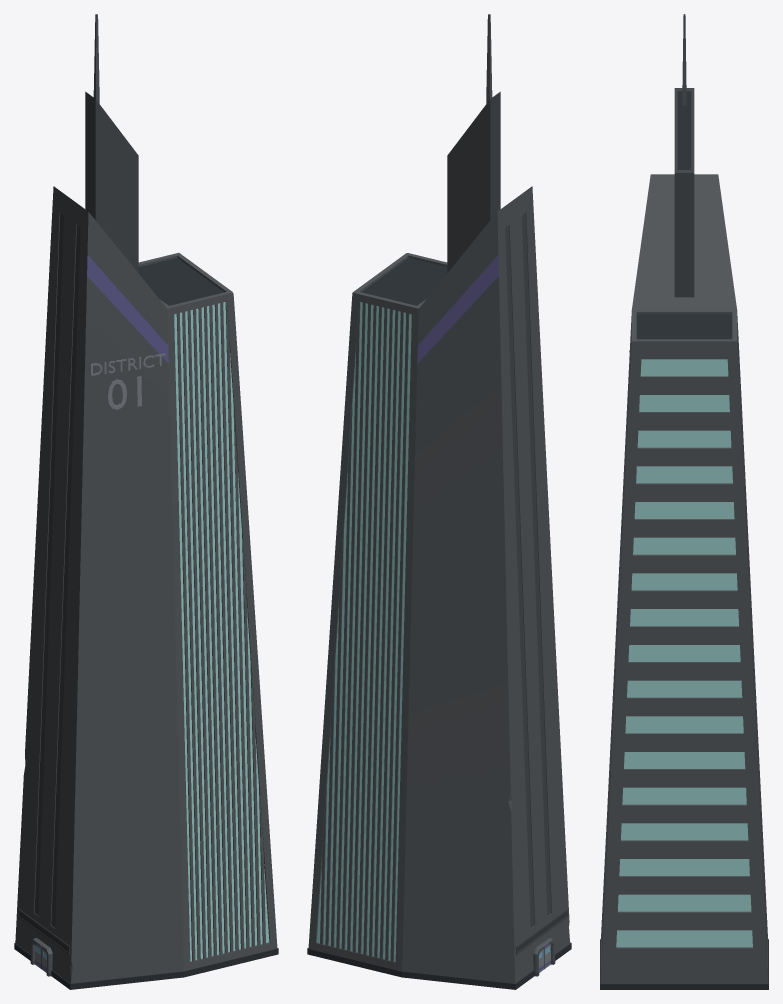
Rendered from SM_BigBuilding_02.fbx.
3 renders of one model, left to right at view 1: azimuth 30°, elevation 25°; view 2: azimuth 150°, elevation 25°; view 3: azimuth 270°, elevation 25°, orthographic. The views are drawn at different scales.
Visible parts, largest first — view 1: SM_BigBuilding_02; view 2: SM_BigBuilding_02; view 3: SM_BigBuilding_02.
Part boxes in pixels (left/top/right/bottom): SM_BigBuilding_02: left=14, top=14, right=278, bottom=989; SM_BigBuilding_02: left=307, top=14, right=571, bottom=989; SM_BigBuilding_02: left=600, top=14, right=768, bottom=989.
Bounding box in the file's own units: 2027 × 9326 × 1568.
